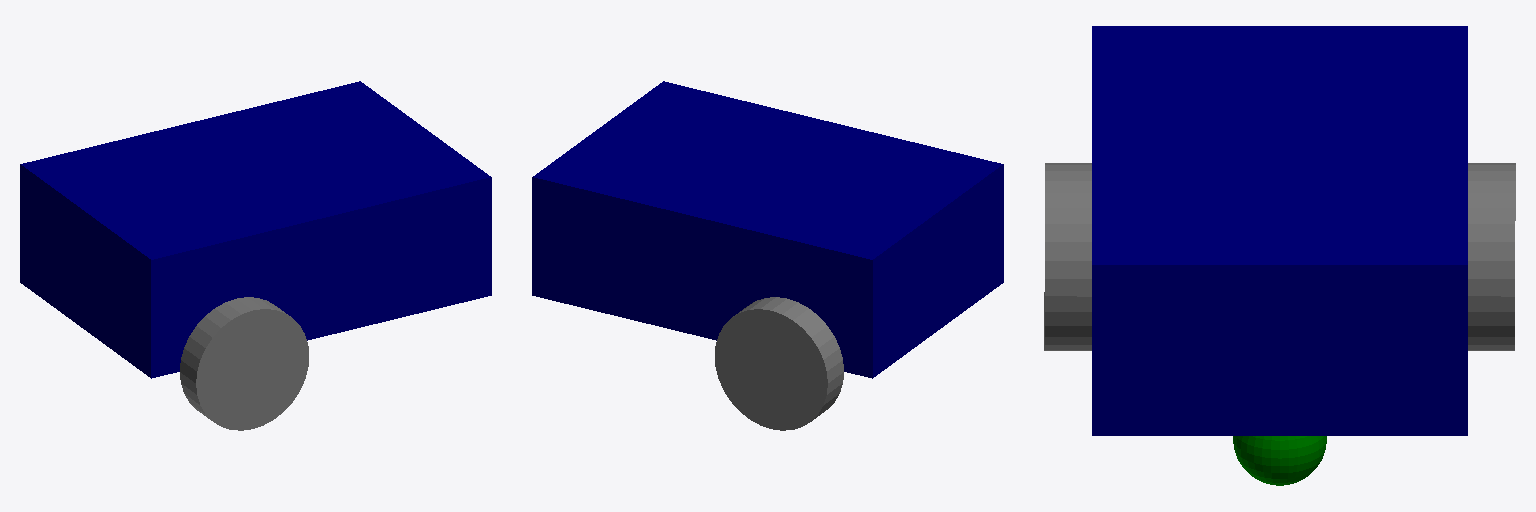
robot.urdf — my_robot:
<?xml version="1.0"?>

<robot name="my_robot">

    <!-- Cores -->
    <material name="green">
        <color rgba="0.0 0.5 0.0 1"/>
    </material>
    <material name="blue">
        <color rgba="0.0 0.0 0.5 1"/>
    </material>
    <material name="red">
        <color rgba="0.5 0.0 0.0 1"/>
    </material>
    <material name="gray">
        <color rgba="0.5 0.5 0.5 1"/>
    </material>

    <link name="base_footprint"/>

    <link name="base_link">
        <visual>
            <geometry>
                <box size="0.6 0.4 0.2"/>
            </geometry>
            <origin xyz="0 0 0.1" rpy="0 0 0"/>
            <material name="blue"/>
        </visual>
    </link>

    <joint name="base_joint" type="fixed">
        <parent link="base_footprint"/>
        <child link="base_link"/>
        <origin xyz="0 0 0.1" rpy="0 0 0"/>
    </joint>

    <link name="left_wheel_link">
        <visual>
            <geometry>
                <cylinder radius="0.1" length="0.05"/>
            </geometry>
            <origin xyz="0.0 0.0 0.0" rpy="1.57 0.0 0.0"/>
            <material name="gray"/>
        </visual>
    </link>

    <joint name="base_left_wheel_joint" type="continuous">
        <parent link="base_link"/>
        <child link="left_wheel_link"/>
        <origin xyz="-0.15 0.225 0.0" rpy="0 0 0"/>
        <axis xyz="0 1 0" rpy="0 0 0"/>
    </joint>

    <link name="right_wheel_link">
        <visual>
            <geometry>
                <cylinder radius="0.1" length="0.05"/>
            </geometry>
            <origin xyz="0.0 0.0 0.0" rpy="1.57 0.0 0.0"/>
            <material name="gray"/>
        </visual>
    </link>

    <joint name="base_right_wheel_joint" type="continuous">
        <parent link="base_link"/>
        <child link="right_wheel_link"/>
        <origin xyz="-0.15 -0.225 0" rpy="0 0 0"/>
        <axis xyz="0 1 0" rpy="0 0 0"/>
    </joint>

    <link name="caster_wheel_link">
        <visual>
            <geometry>
                <sphere radius="0.05"/>
            </geometry>
            <origin xyz="0.0 0.0 0.0" rpy="0.0 0.0 0.0"/>
            <material name="green"/>
        </visual>
    </link>

    <joint name="base_caster_wheel_joint" type="fixed">
        <parent link="base_link"/>
        <child link="caster_wheel_link"/>
        <origin xyz="0.2 0.0 -0.05" rpy="0.0 0.0 0.0"/>
    </joint>

</robot>

--- Facts derived from the render (not from the file) ---
The picture shows the robot from 3 angles, left to right: view 1: azimuth 30°, elevation 25°; view 2: azimuth 150°, elevation 25°; view 3: azimuth 270°, elevation 25°; orthographic projection.
Robot: my_robot — 5 links, 4 joints (2 continuous, 2 fixed); root link base_footprint; default pose: every joint at zero.
Visible links, largest first — view 1: base_link, right_wheel_link; view 2: base_link, left_wheel_link; view 3: base_link, right_wheel_link, left_wheel_link, caster_wheel_link.
Boxes of the visible links, <box> form: base_link: <box>20,81,491,378</box>; right_wheel_link: <box>180,297,308,430</box>; base_link: <box>532,81,1003,378</box>; left_wheel_link: <box>715,297,843,430</box>; base_link: <box>1092,26,1467,435</box>; right_wheel_link: <box>1044,163,1091,350</box>; left_wheel_link: <box>1468,163,1515,350</box>; caster_wheel_link: <box>1233,436,1326,485</box>.
Size in the robot's own frame: 0.6 by 0.5002 by 0.3 metres.
Geometry: primitives only (box / cylinder / sphere), no mesh files.